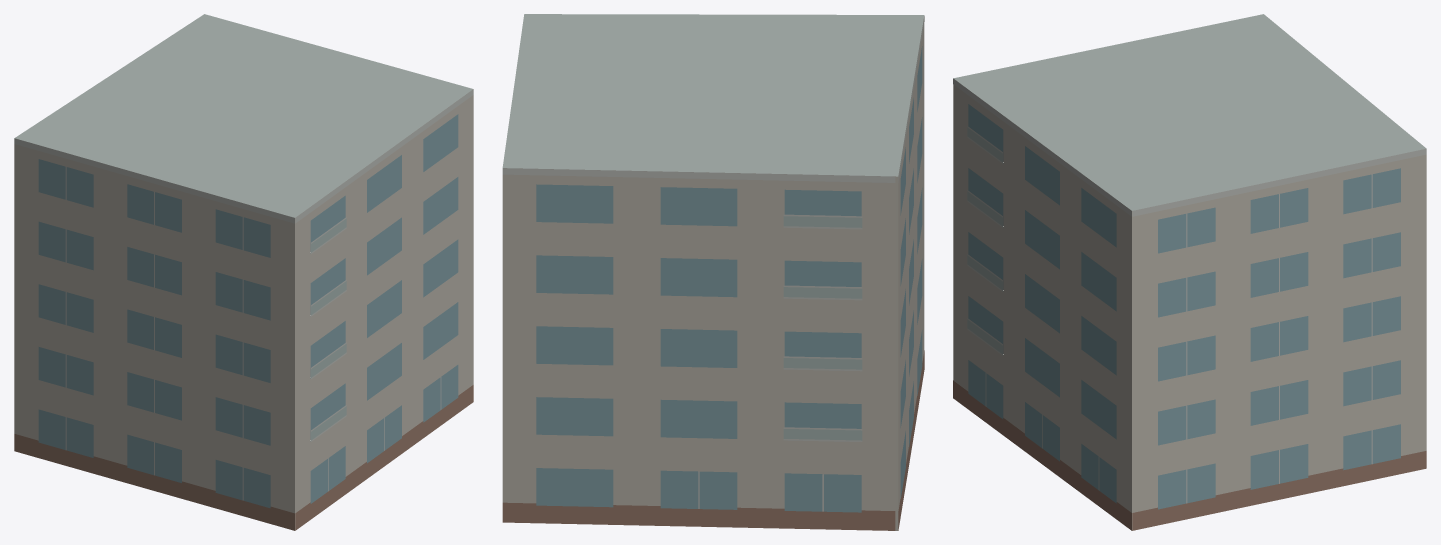
The model's file is survey-upis-32932924.glb.
3 views of the same model, side by side, from view 1: azimuth 30°, elevation 25°; view 2: azimuth 150°, elevation 25°; view 3: azimuth 270°, elevation 25° (orthographic). The views are drawn at different scales.
Visible parts, largest first — view 1: survey-upis-32932924.tmp; view 2: survey-upis-32932924.tmp; view 3: survey-upis-32932924.tmp.
Boxes of the visible parts, x1,y1,x2,y2 form: survey-upis-32932924.tmp: (14, 14, 473, 530); survey-upis-32932924.tmp: (502, 14, 924, 530); survey-upis-32932924.tmp: (953, 14, 1426, 530).
Size of the model in its own units: 17.43 by 13.2 by 17.71.
